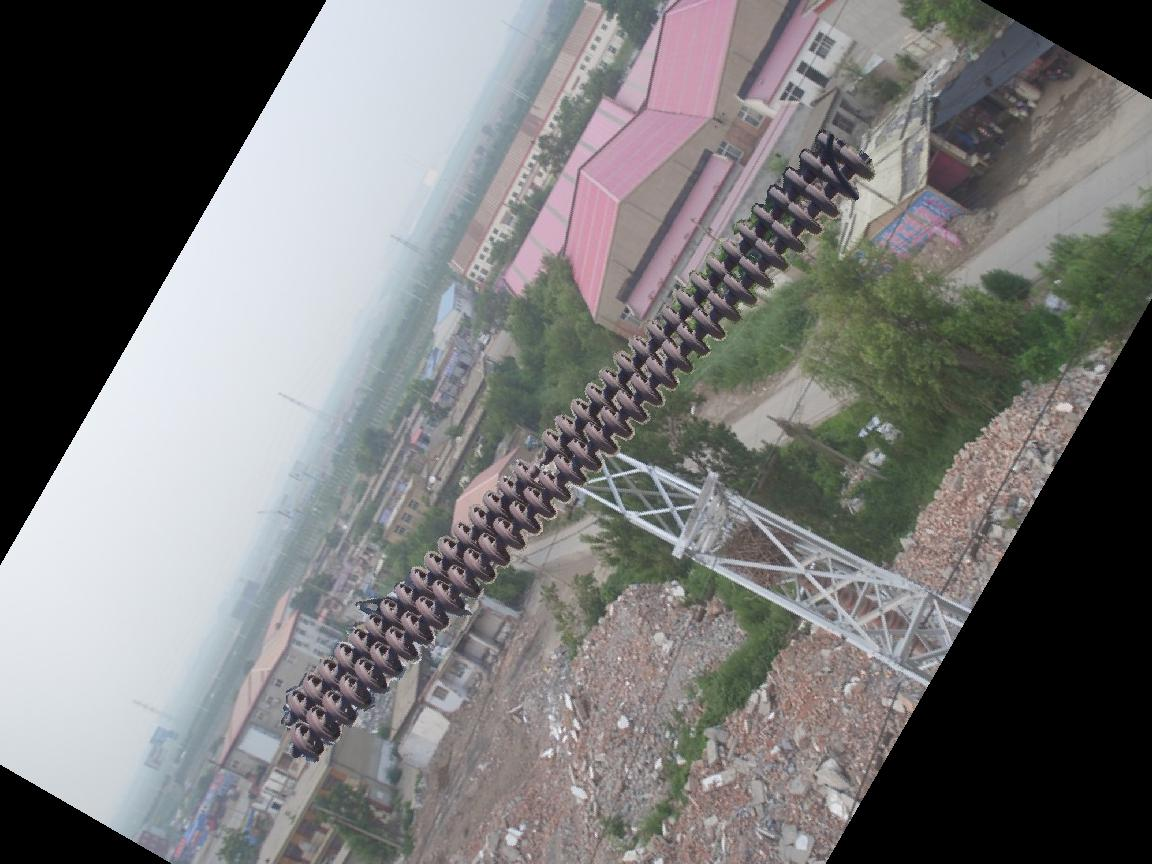insulator: (279, 129, 884, 766), (805, 572, 932, 646)
insulator_stringdrop: (512, 425, 569, 486)
